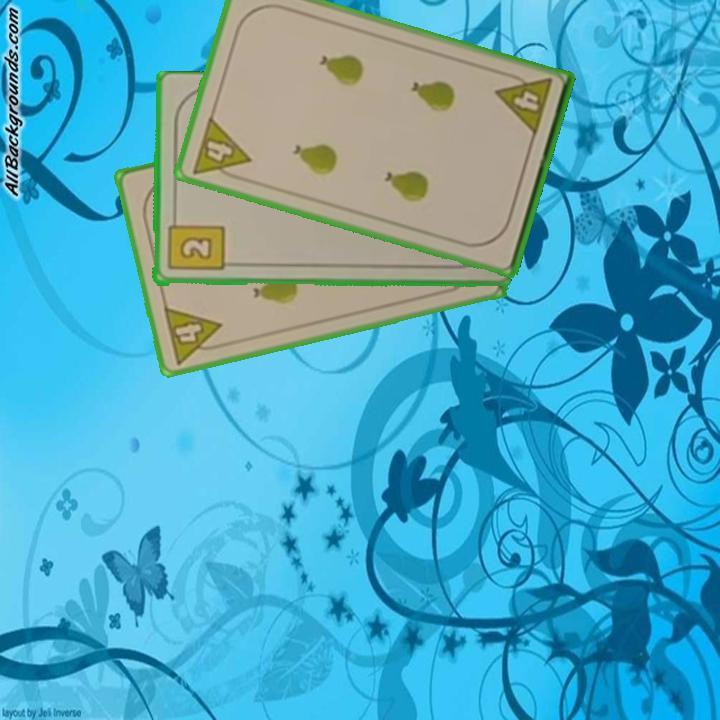2b: (164, 212, 226, 274)
4p: (188, 113, 254, 185), (492, 68, 555, 139), (160, 303, 229, 367)
